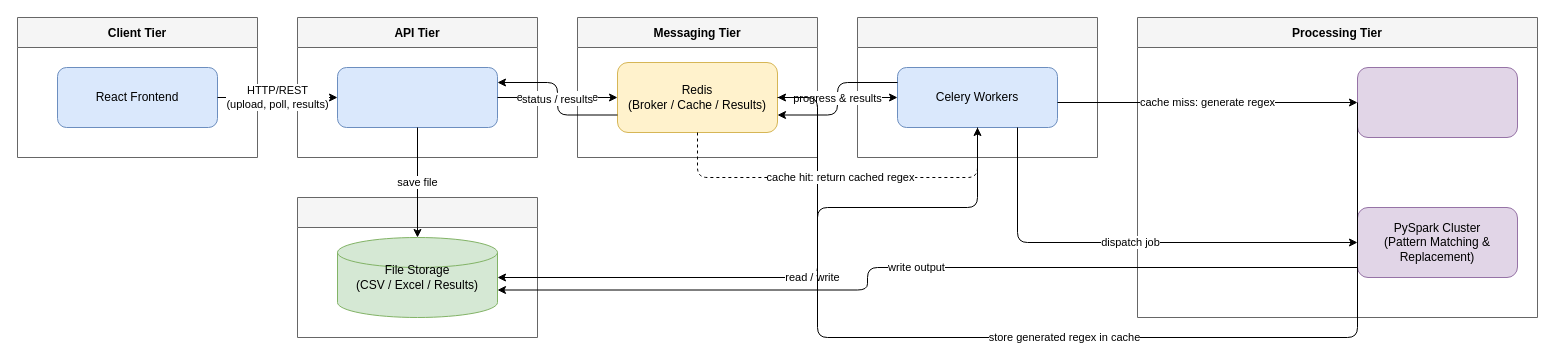
This 1555x363 diagram has some shape labels left out. The box of each missing label's shape, as (x1, y1, x2, y2) in pixels:
Django REST API: (336, 66, 498, 128)
LLM Service (NL to Regex): (1356, 66, 1518, 138)
Storage Tier: (296, 196, 538, 338)
Worker Tier: (856, 16, 1098, 158)
